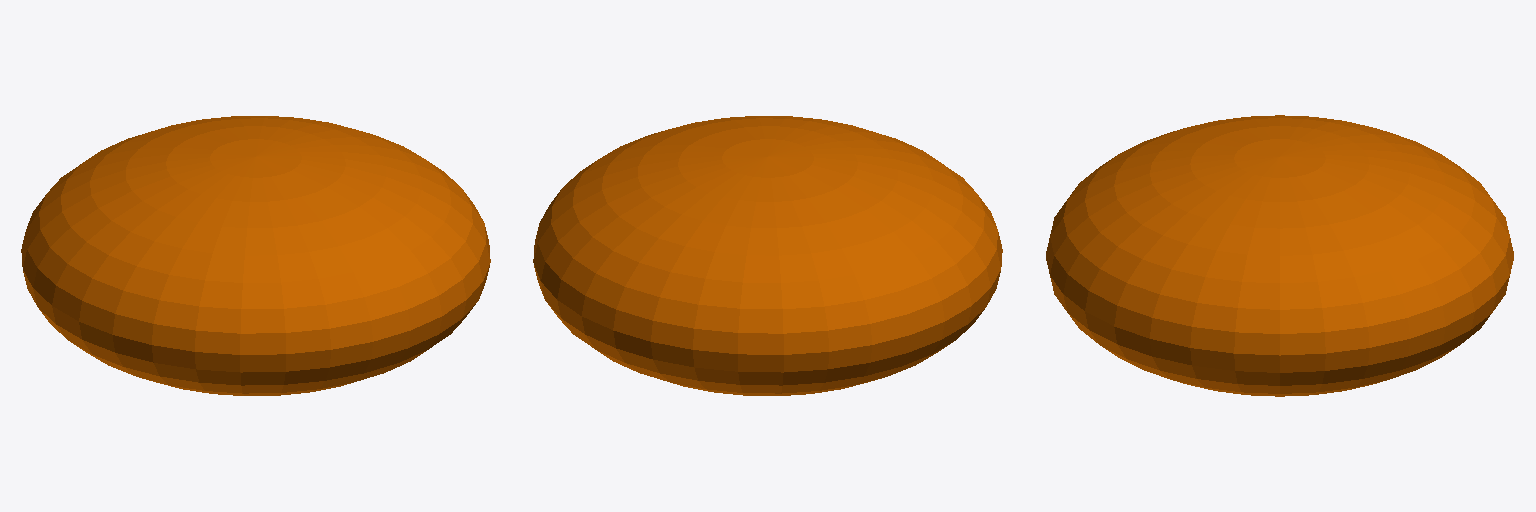
The model's file is KeyUp.obj.
3 renders of one model, left to right at view 1: azimuth 30°, elevation 25°; view 2: azimuth 150°, elevation 25°; view 3: azimuth 270°, elevation 25°, orthographic.
Visible parts, largest first — view 1: 球; view 2: 球; view 3: 球.
Part boxes in pixels (x1,y1,x2,y2): 球: (21,116,490,395); 球: (533,116,1002,395); 球: (1046,115,1513,396).
Size of the model in its own units: 0.3174 by 0.1479 by 0.3161.